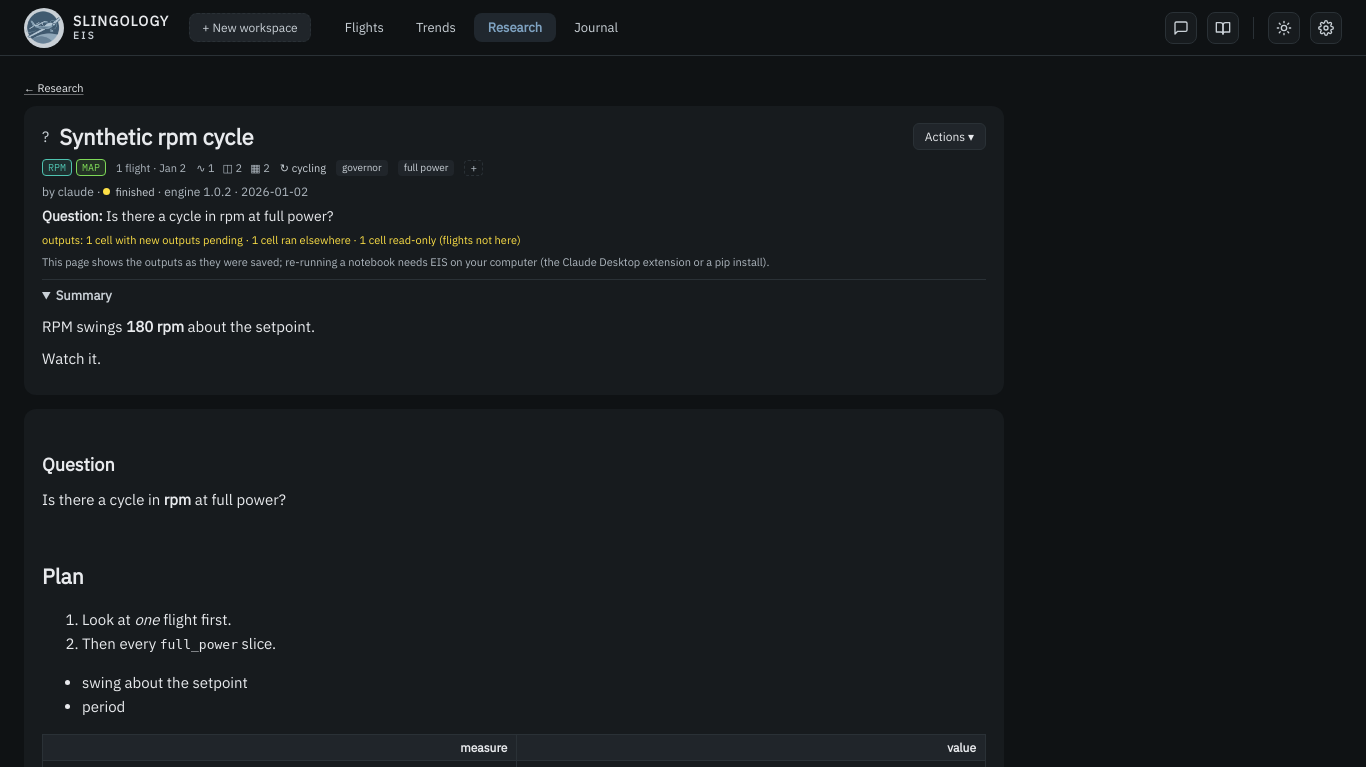
the notebook on the Research page (§5.3) › without a bench (the website) the notebook renders with no run actions; export and Run this on my flights remain
Later steps or results of the test are not shown.
Expected: the text "re-running a notebook needs EIS on your computer" is shown, [42,255,770,269]
Click the button with test id "nb-actions" at {"x": 949, "y": 136}, box [913,123,986,150]
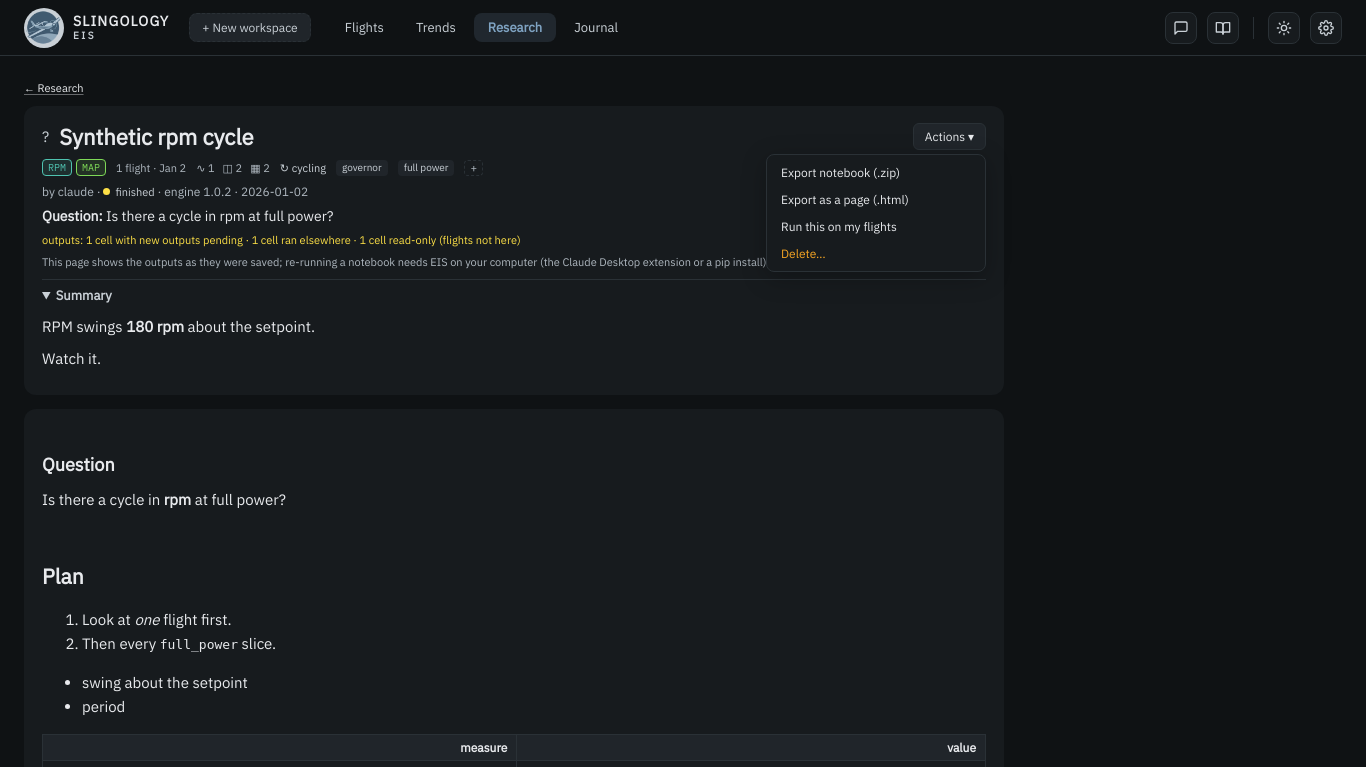
Now the menu items read "Export notebook (.zip)", "Export as a page (.html)", "Run this on my flights", "Delete…", in this order, box [771,159,981,186]; [771,186,981,213]; [771,213,981,240]; [771,240,981,267]
